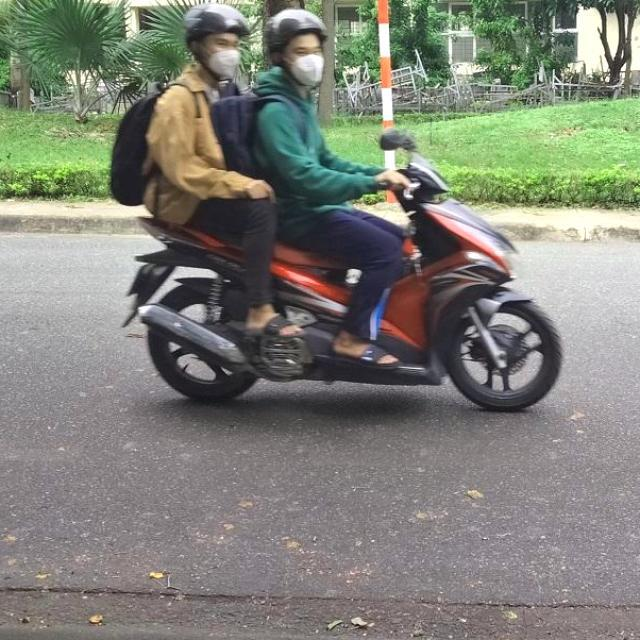Helmet: (264, 10, 326, 90), (184, 3, 242, 82)
